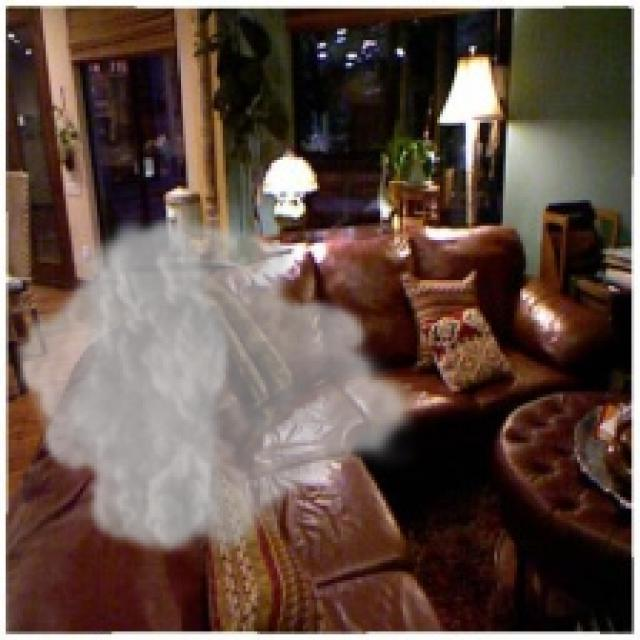Smoke: (12, 208, 417, 563)
